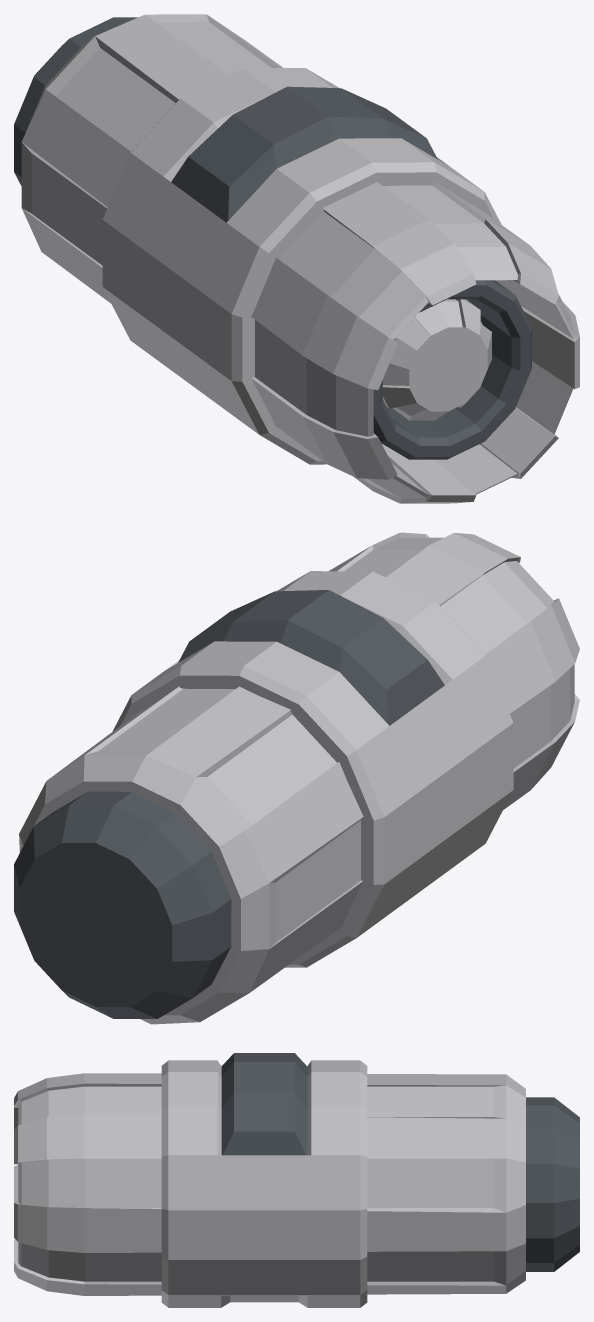
The model's file is Fighter_05_Thruster_2.fbx.
3 renders of one model, top to bottom at view 1: azimuth 30°, elevation 25°; view 2: azimuth 150°, elevation 25°; view 3: azimuth 270°, elevation 25°, orthographic. The views are drawn at different scales.
Parts seen in each view (by area): view 1: Fighter_05_Thruster_2; view 2: Fighter_05_Thruster_2; view 3: Fighter_05_Thruster_2.
Boxes of the visible parts, x1,y1,x2,y2 form: Fighter_05_Thruster_2: (14, 14, 579, 503); Fighter_05_Thruster_2: (14, 532, 579, 1024); Fighter_05_Thruster_2: (14, 1053, 579, 1307).
Size of the model in its own units: 300 by 321 by 703.
1 material, 1 textured.
